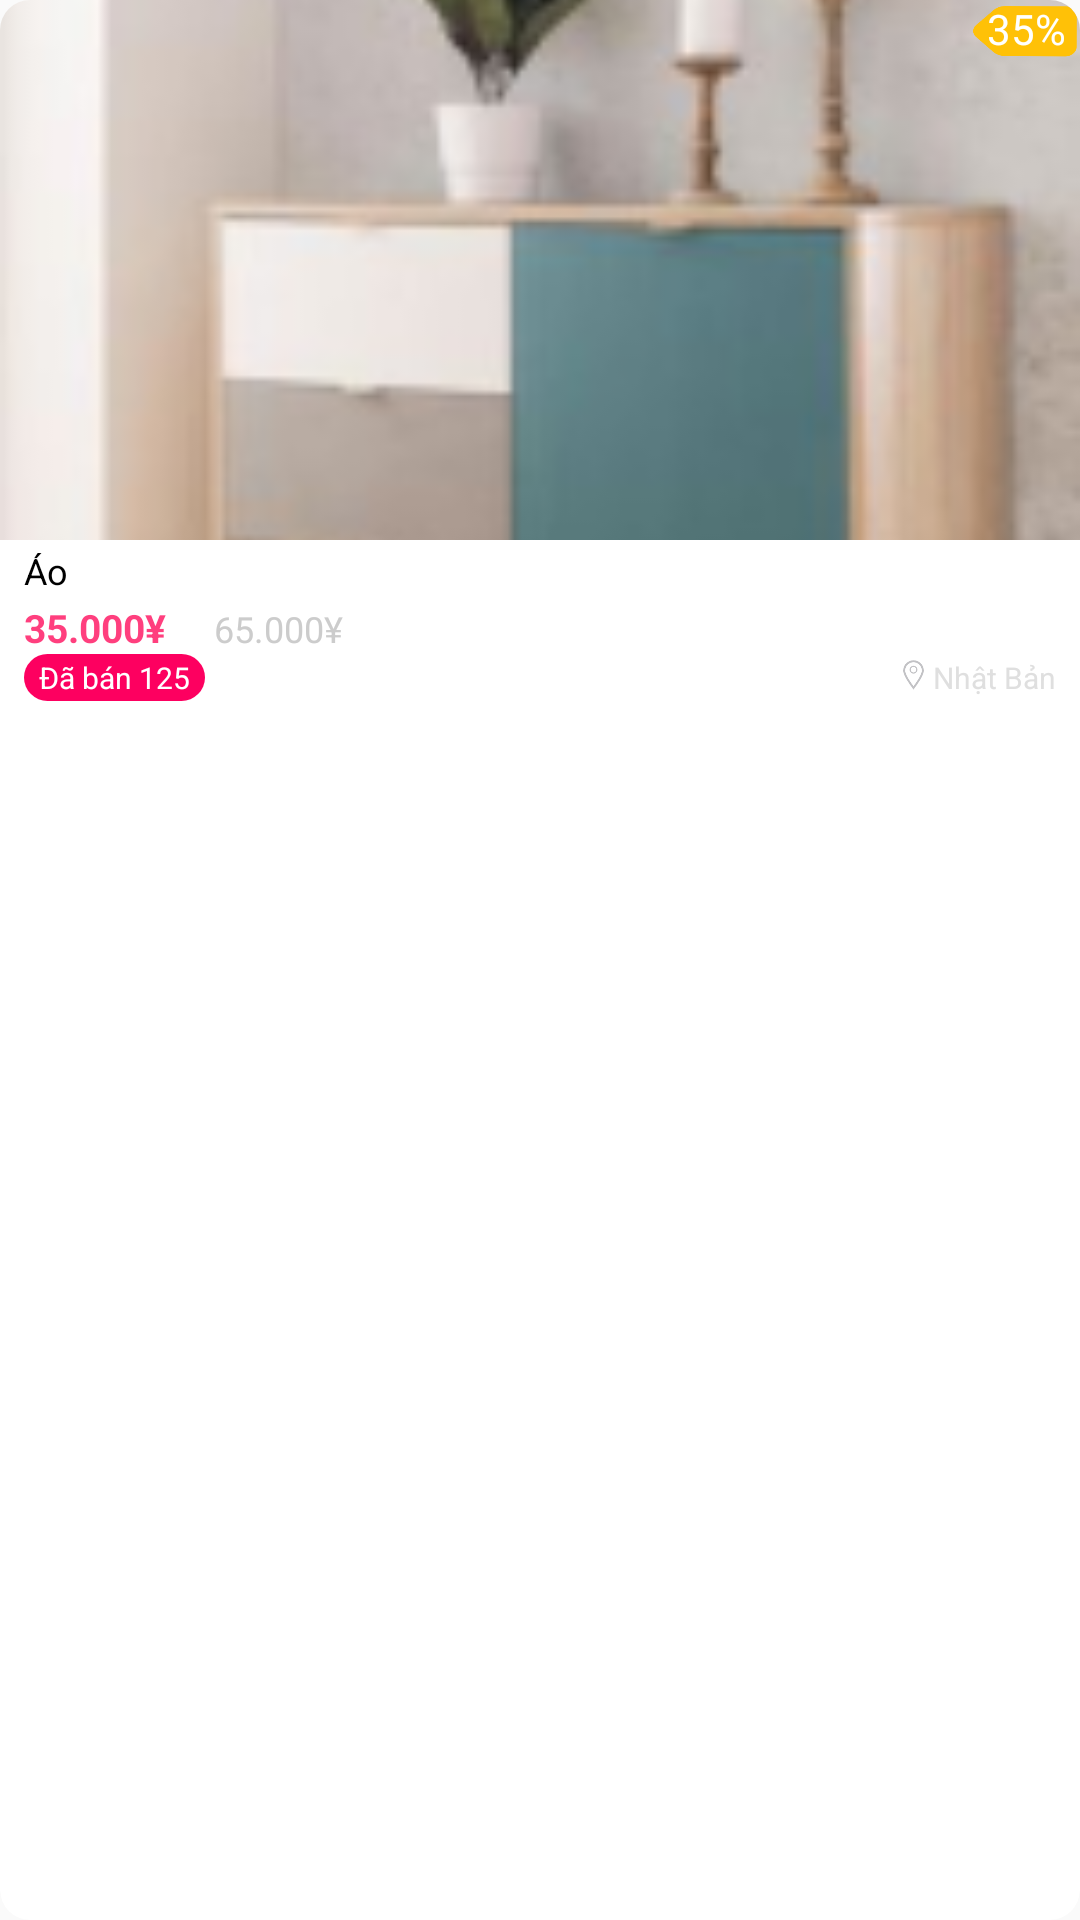

Icon click points for this 1080×1920 phone screenshot, format point (x, y):
product sale tag: point (1025, 31)
